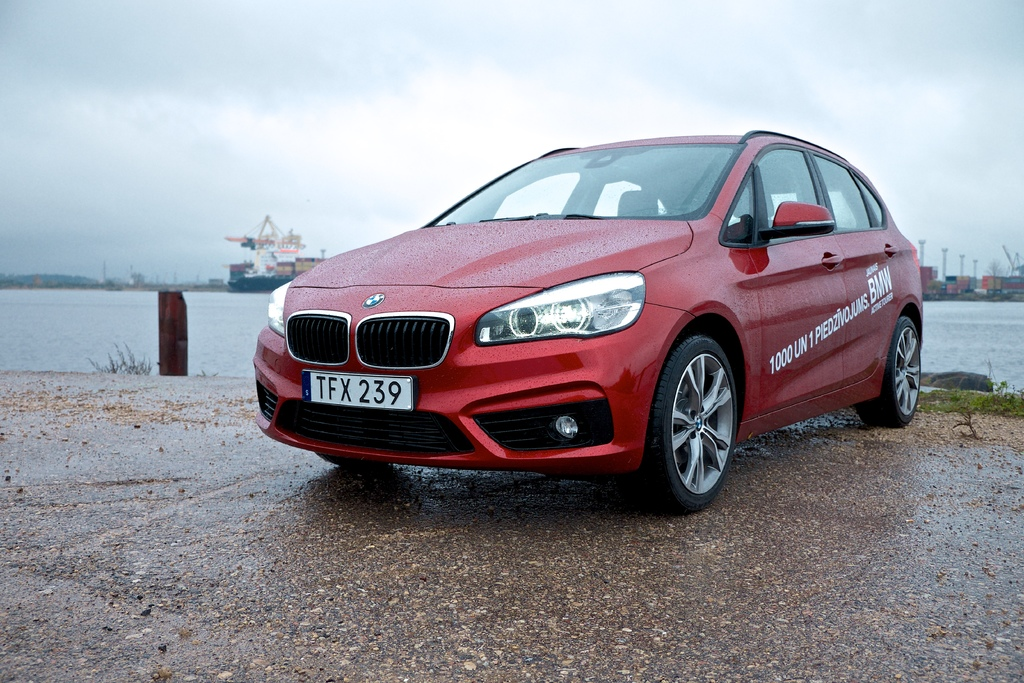Car: (229, 133, 933, 506)
